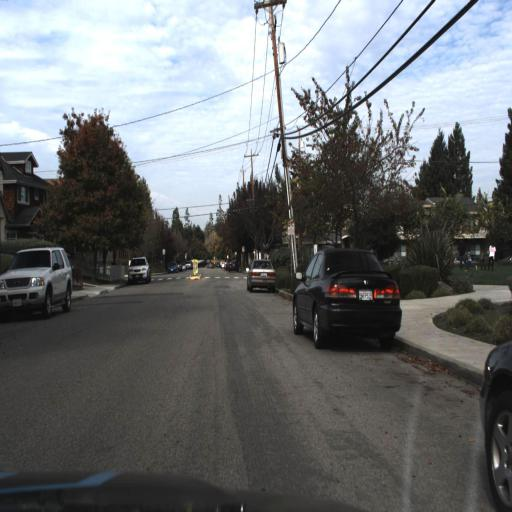car: (291, 244, 404, 346), (0, 242, 75, 323), (479, 337, 512, 509), (245, 258, 278, 294), (124, 253, 150, 284), (165, 255, 180, 275)
